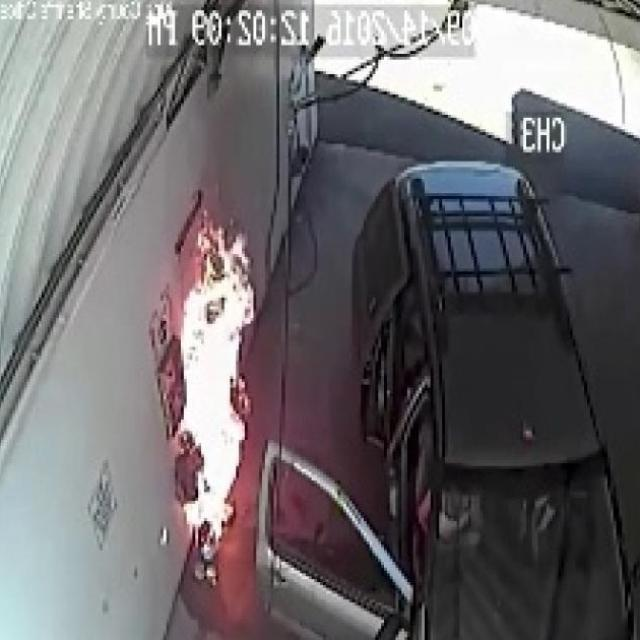smoke: (171, 212, 260, 552)
